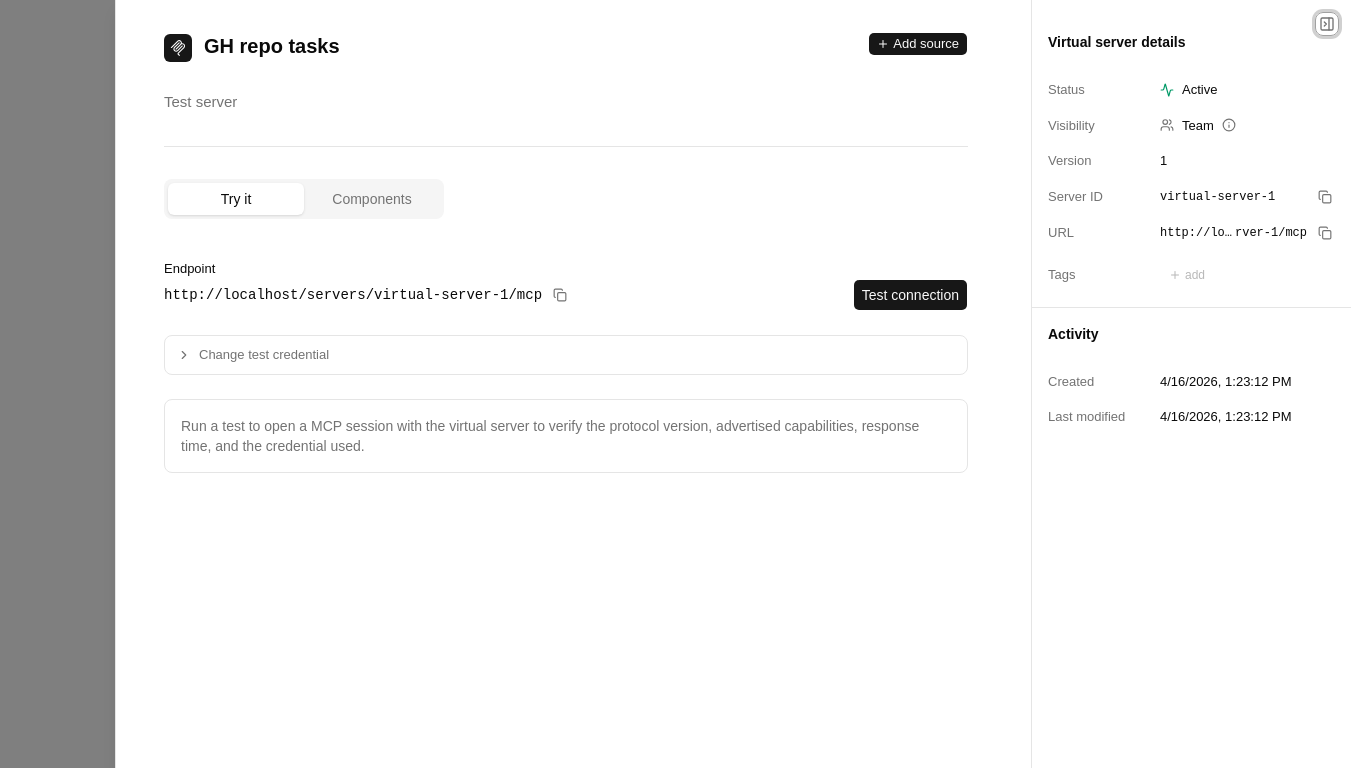
Test: VirtualServerDetailsPanel tool testing › keeps Preview available but blocks Live for an explicitly blank gateway ID
Click the tab "Components".
click(372, 199)  # box x1=304 y1=183 x2=440 y2=215
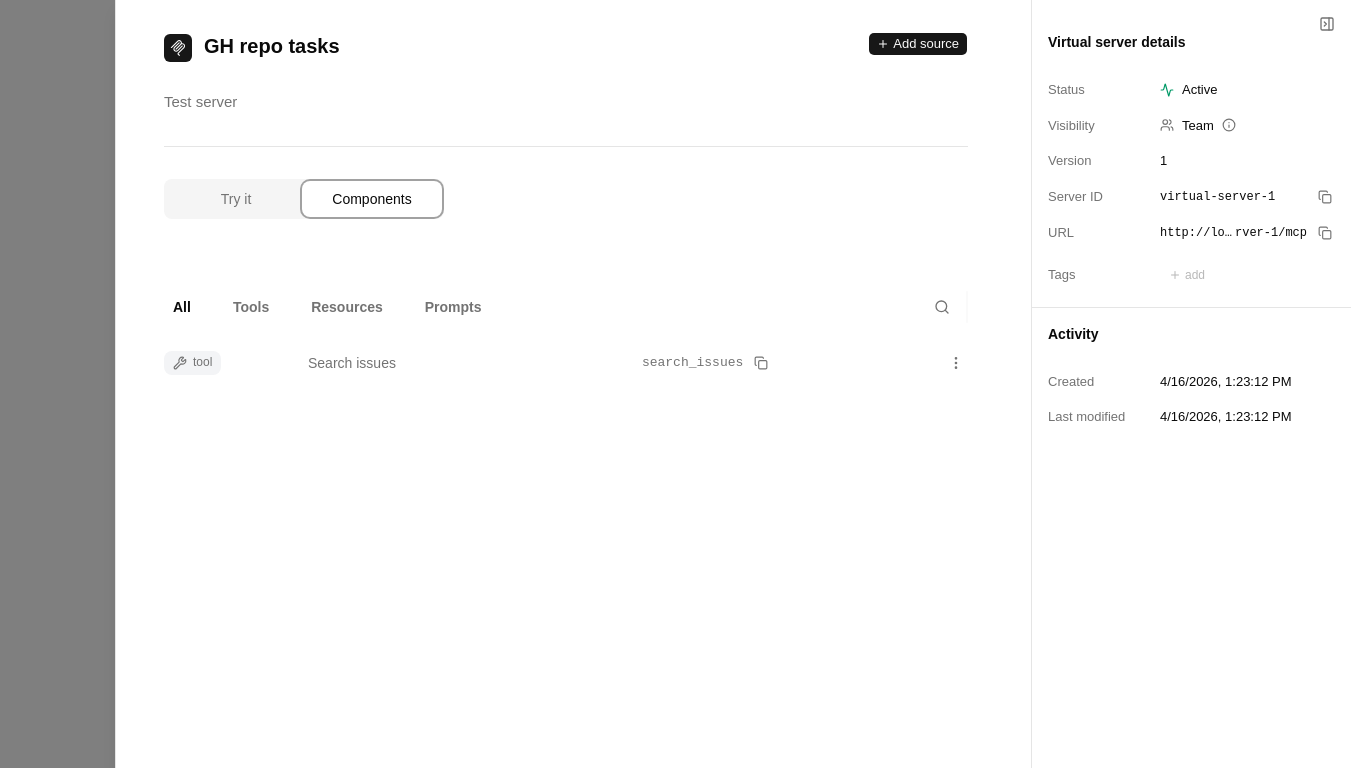
Click the button named "Actions for Search issues".
click(956, 363)  # box x1=944 y1=351 x2=968 y2=375
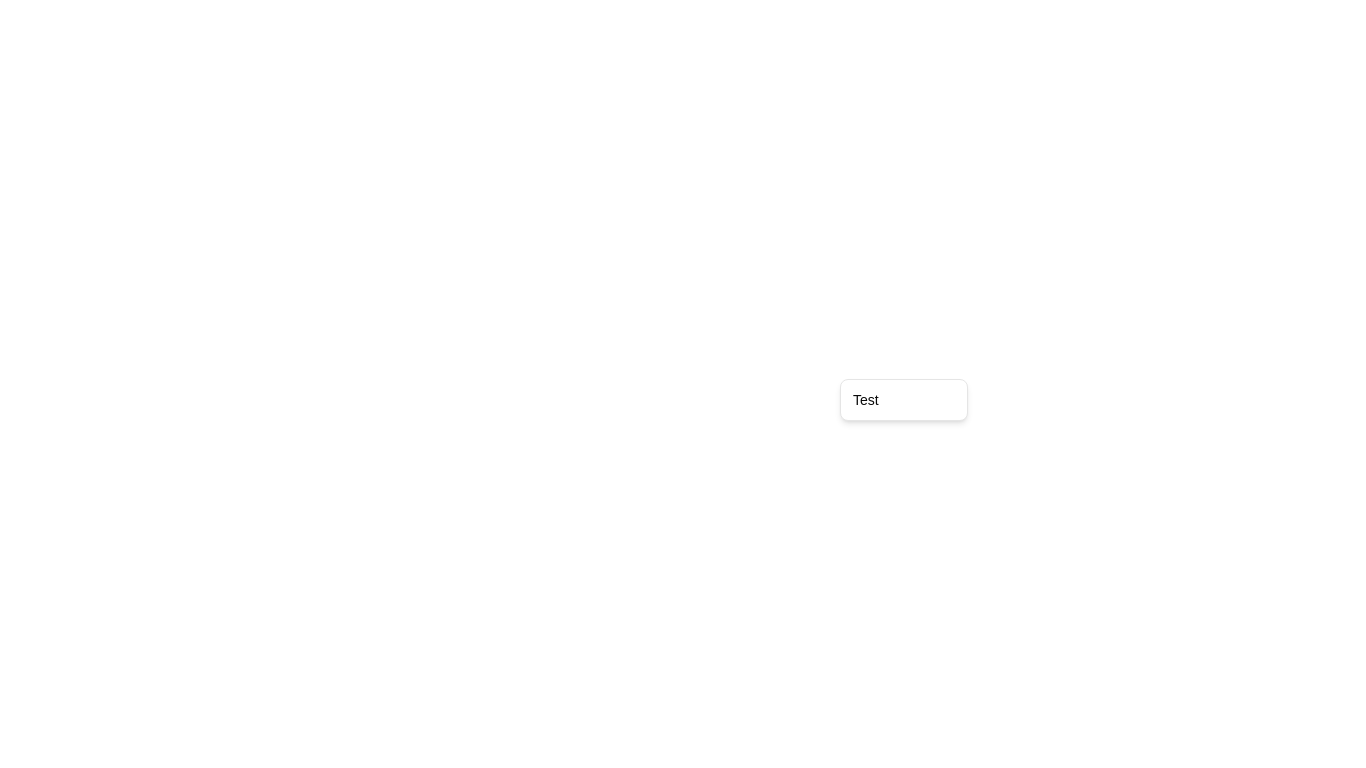
Click the menu item "Test".
click(866, 400)  # box x1=853 y1=392 x2=879 y2=408
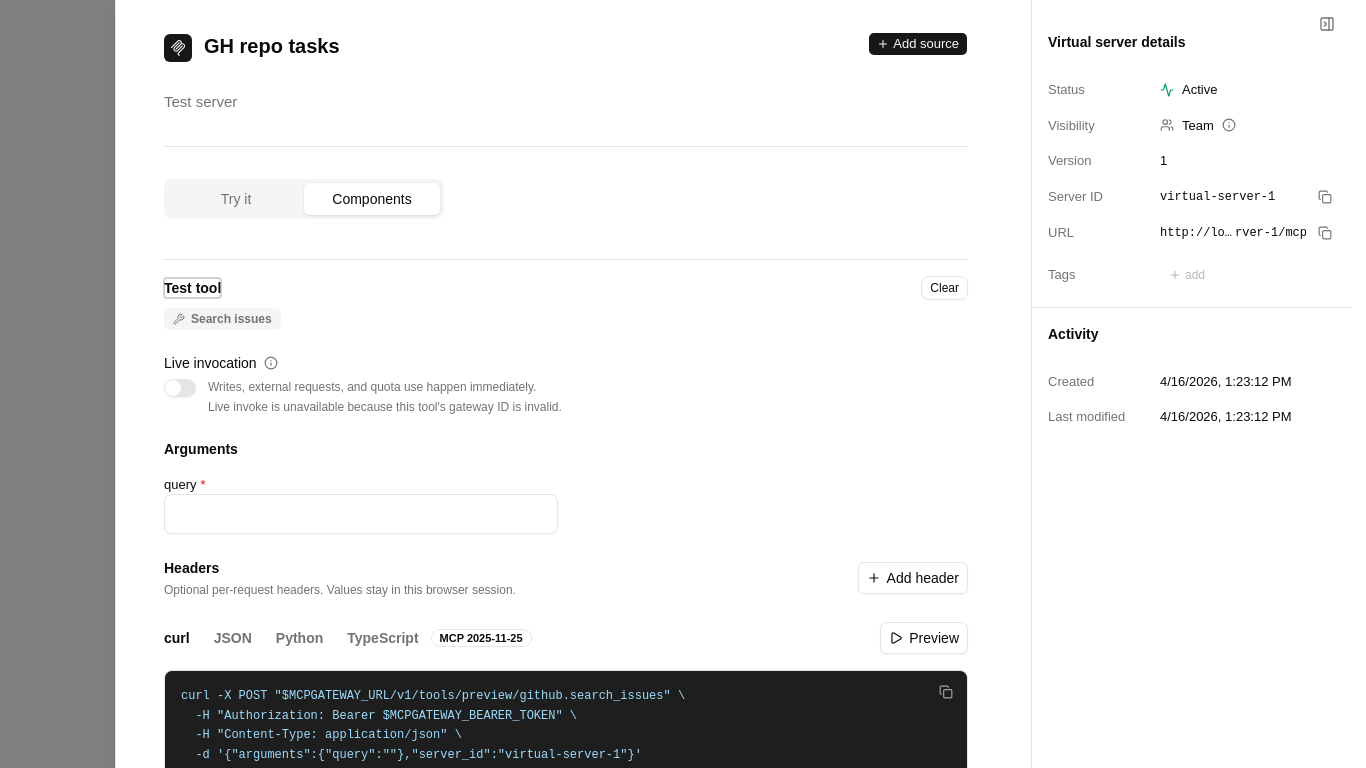
Expected: the button "Preview" is shown, x1=880 y1=622 x2=968 y2=654
Expected: the switch named "Live invocation" is disabled, x1=164 y1=378 x2=196 y2=397
